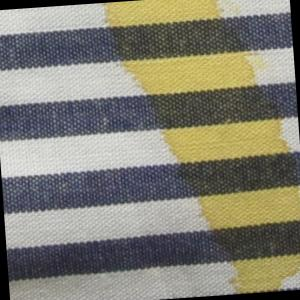Stain: (98, 1, 300, 300)
